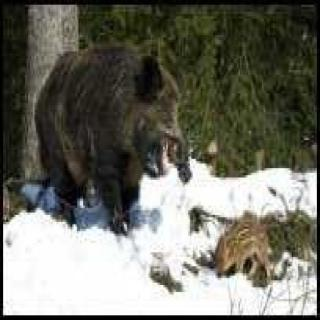Pig: (38, 30, 182, 245), (214, 220, 280, 290)
